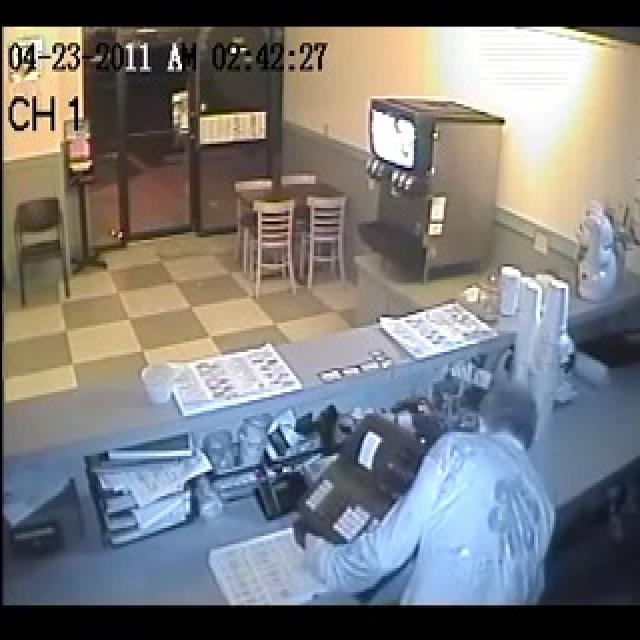thief: (316, 377, 565, 602)
